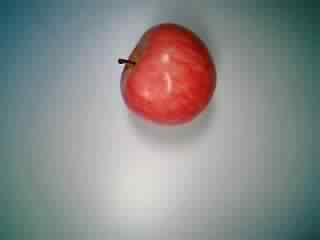apple: (114, 21, 223, 124)
